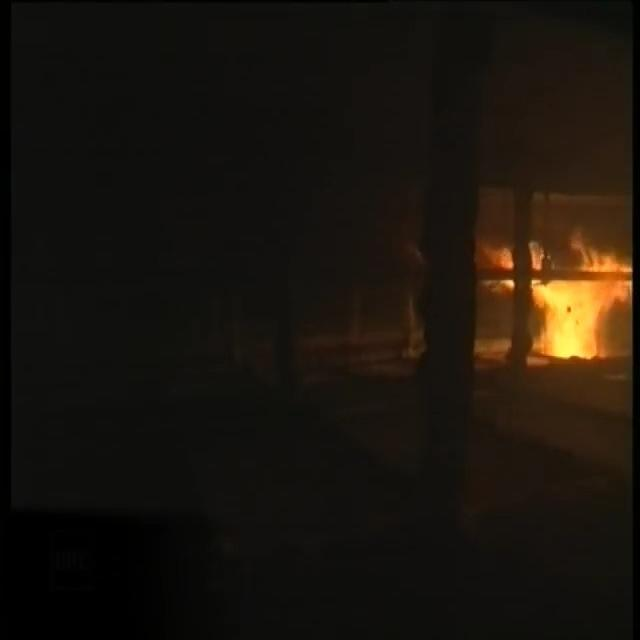Fire: (478, 176, 632, 374)
